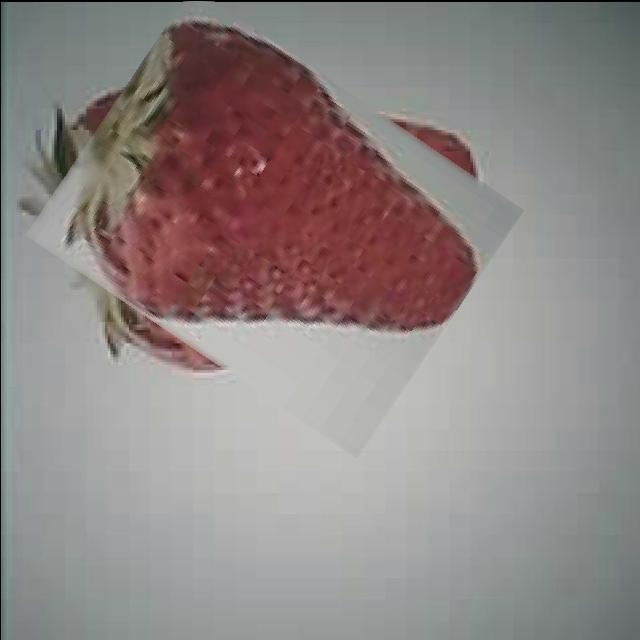strawberry: (49, 28, 499, 414)
